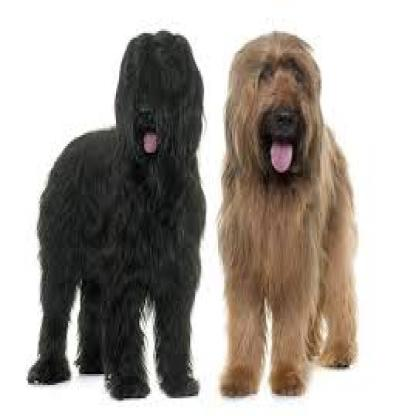Briard: (36, 19, 212, 401), (209, 26, 367, 404)
